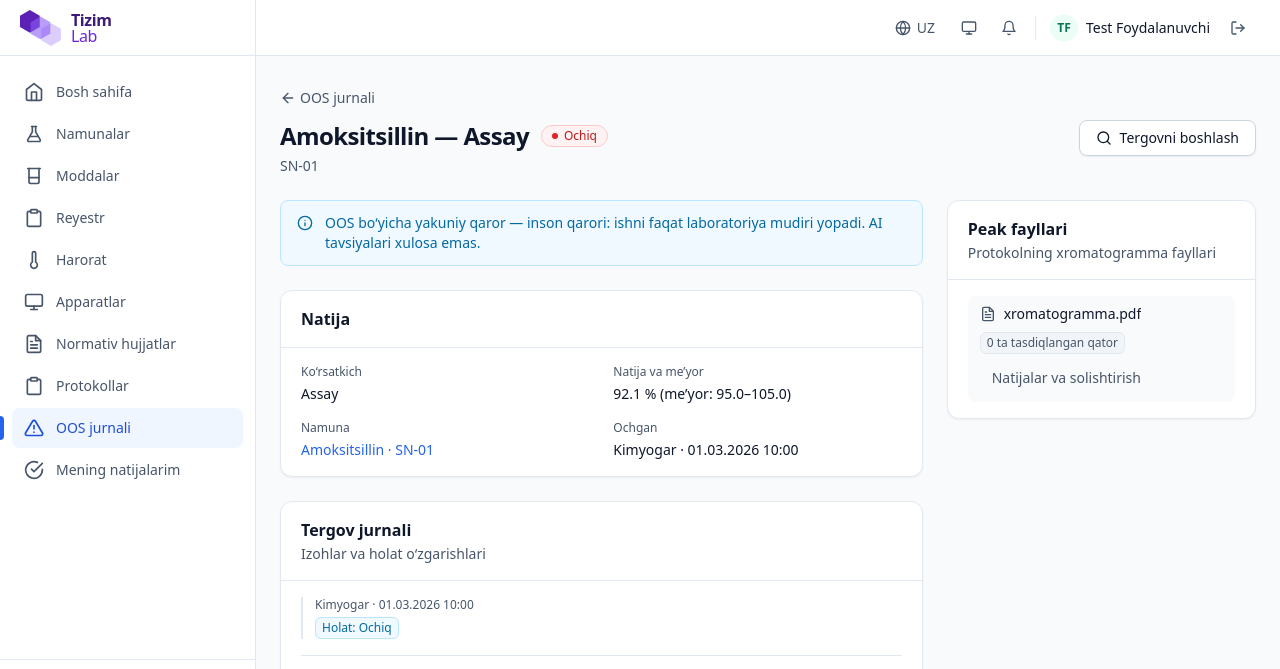
Test: P19: peak natijalari va tarix bilan solishtirish › AI yoqilgan: jadvalni o‘qish — AI qatorlari belgilanadi, past ishonch "Tekshiring"
This screenshot has width=1280, height=669.
Click the button "Natijalar va solishtirish" at {"x": 1066, "y": 378}, box x1=980 y1=362 x2=1153 y2=394
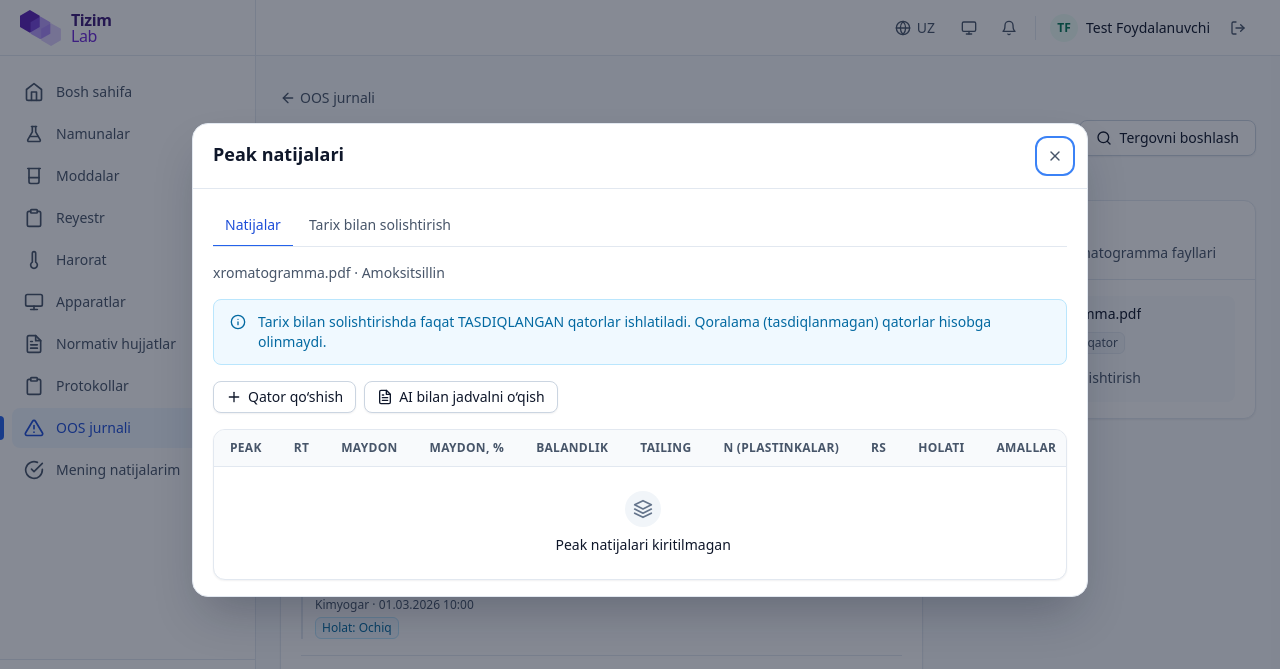
Click the button "AI bilan jadvalni o‘qish" at {"x": 461, "y": 397}, box x1=364 y1=381 x2=558 y2=413
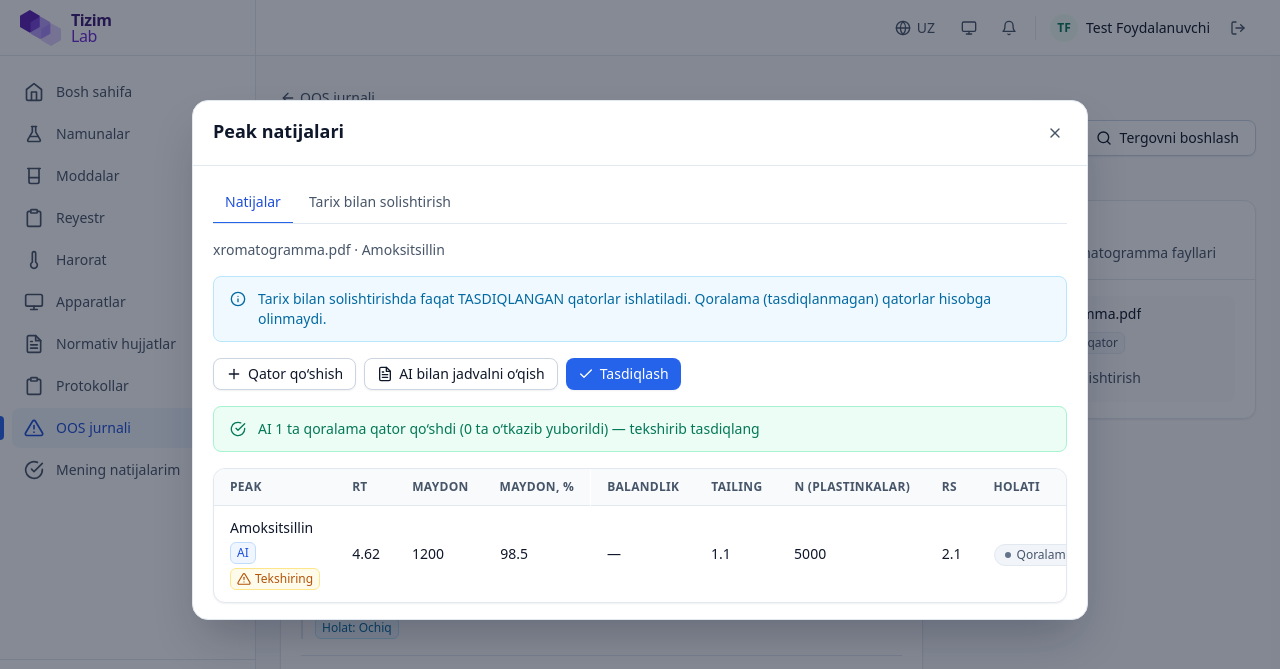
Expected: the text "Tekshiring" is shown, x1=230 y1=568 x2=320 y2=590
Expected: the text "AI" is shown, x1=230 y1=542 x2=256 y2=564
